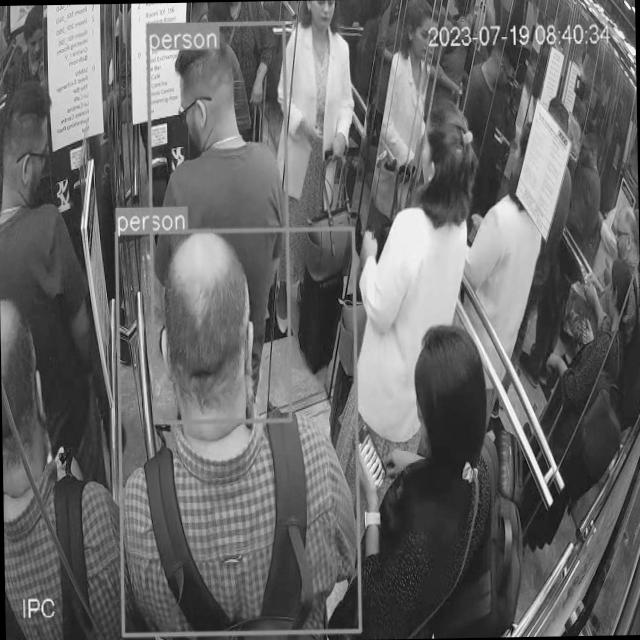person: (120, 228, 357, 640), (144, 19, 290, 422), (357, 318, 522, 640), (353, 98, 478, 490), (0, 84, 118, 487), (0, 295, 128, 640), (524, 244, 639, 534), (285, 0, 361, 340)
